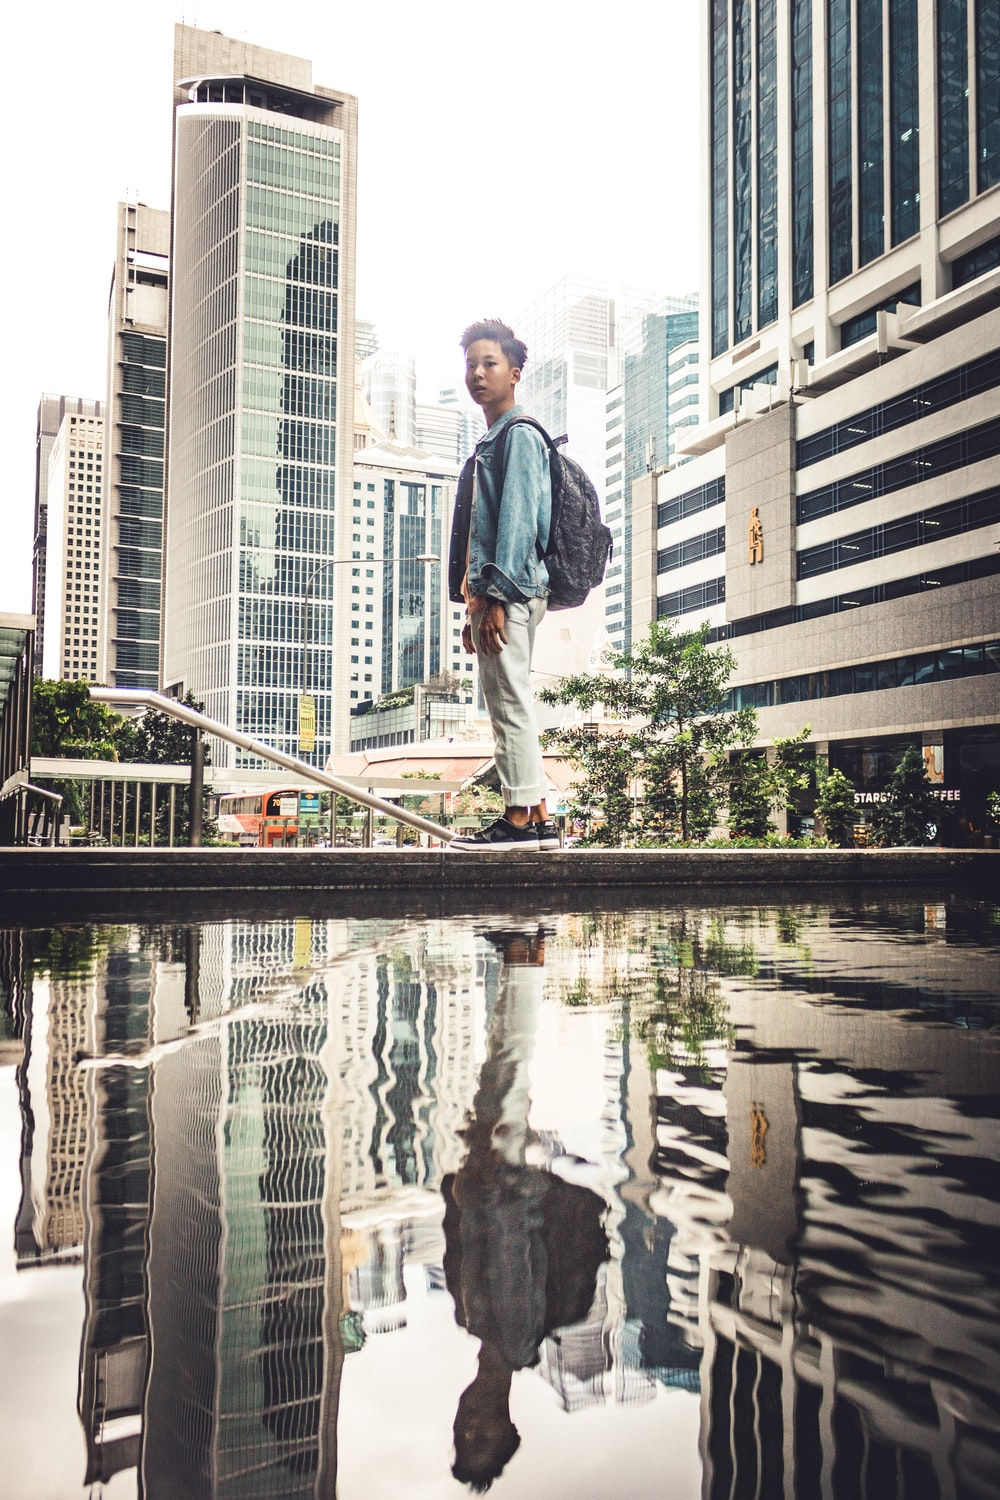face: (414, 1333, 559, 1500), (448, 272, 544, 431)
